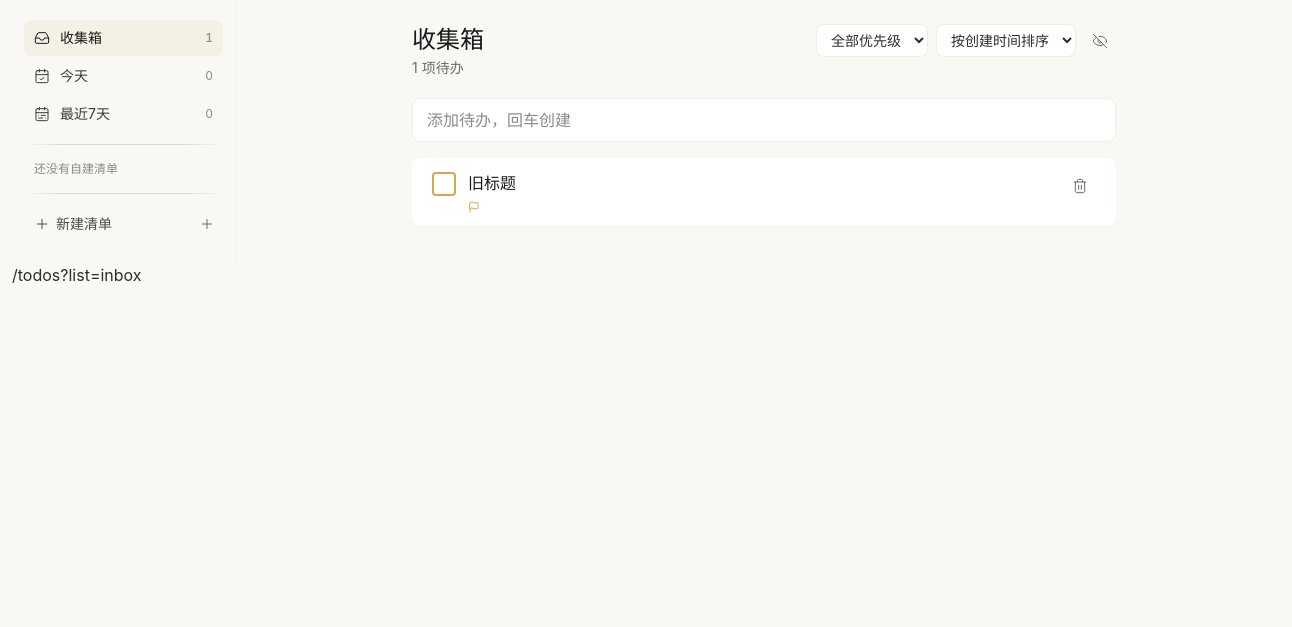
Todos 页 · 三栏重构（B2-T1） › ?task= 选中态同步（D9，B2-T2） › 详情标题编辑（blur 提交）同步列表行标题
The width and height of the screenshot is (1292, 627).
Click the button "旧标题".
click(492, 183)  # box [468,170,1052,197]
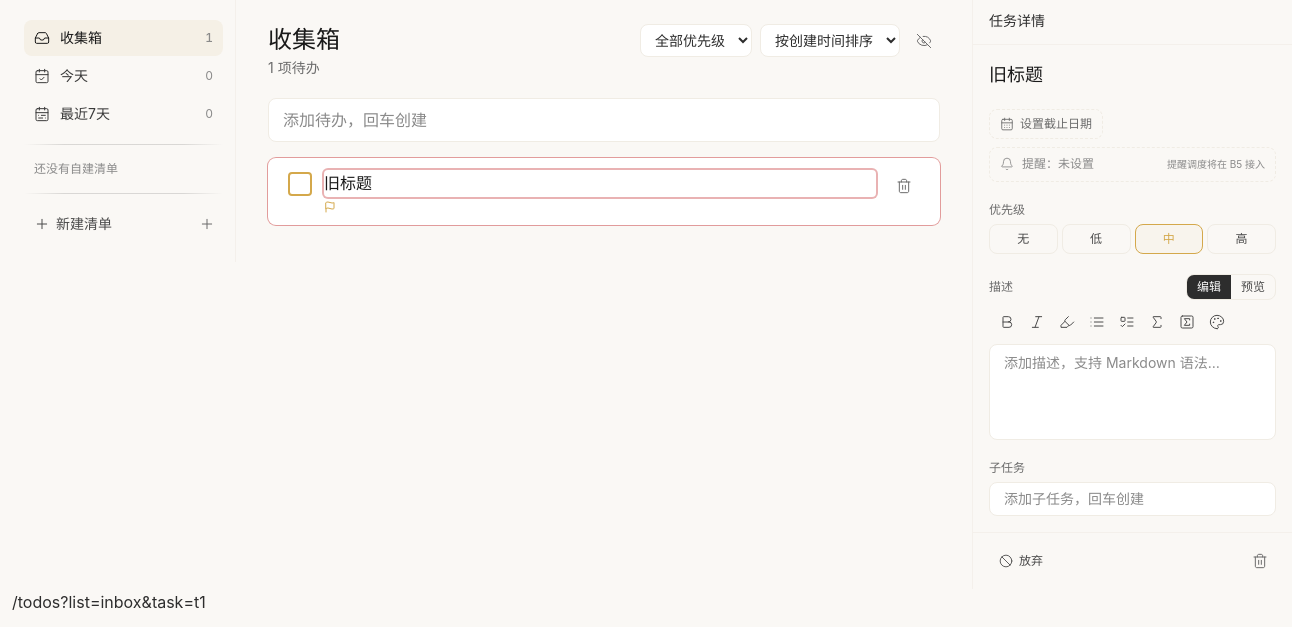
Replace the text in the field named "任务标题" with "新标题" at (1132, 75), box [989,61,1276,89]
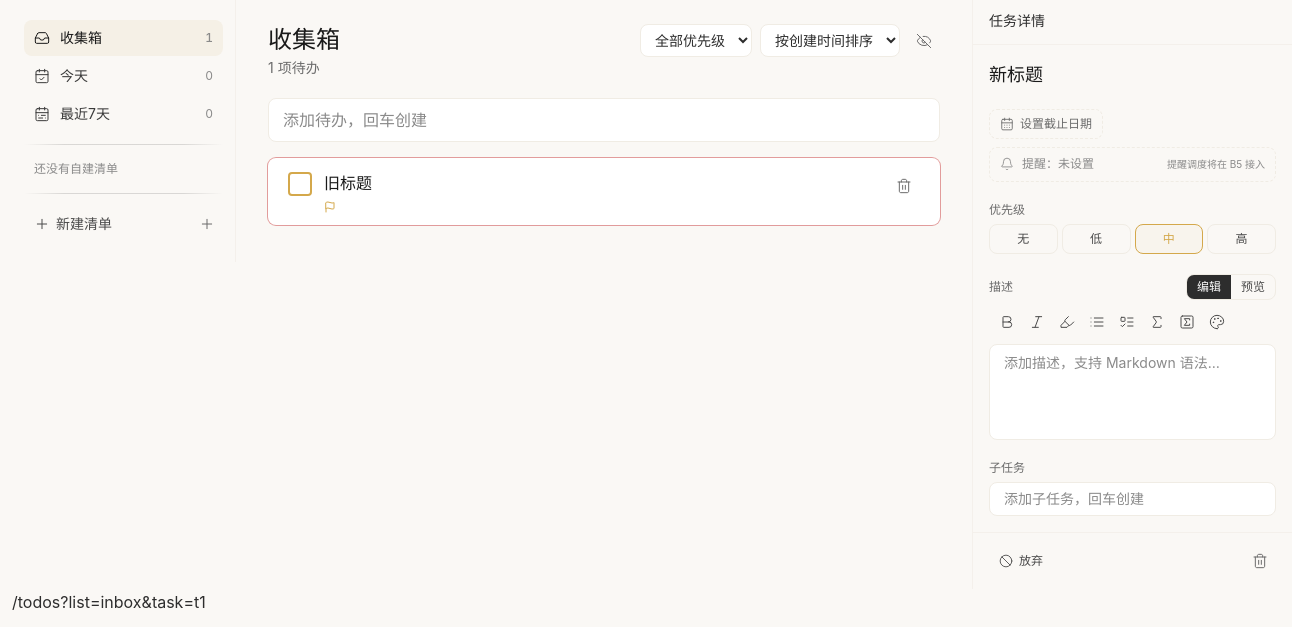
Press Tab
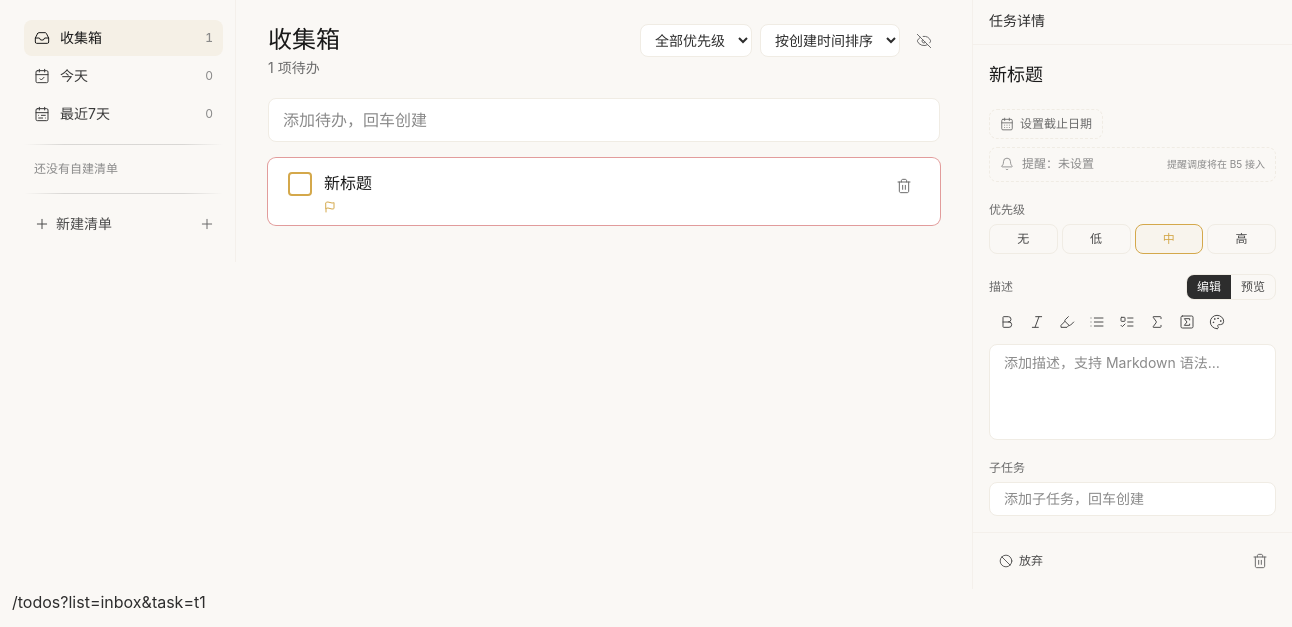
Expected: the text "新标题" is shown, [324,173,372,193]
Expected: the button "新标题" is shown, [324,170,876,197]
